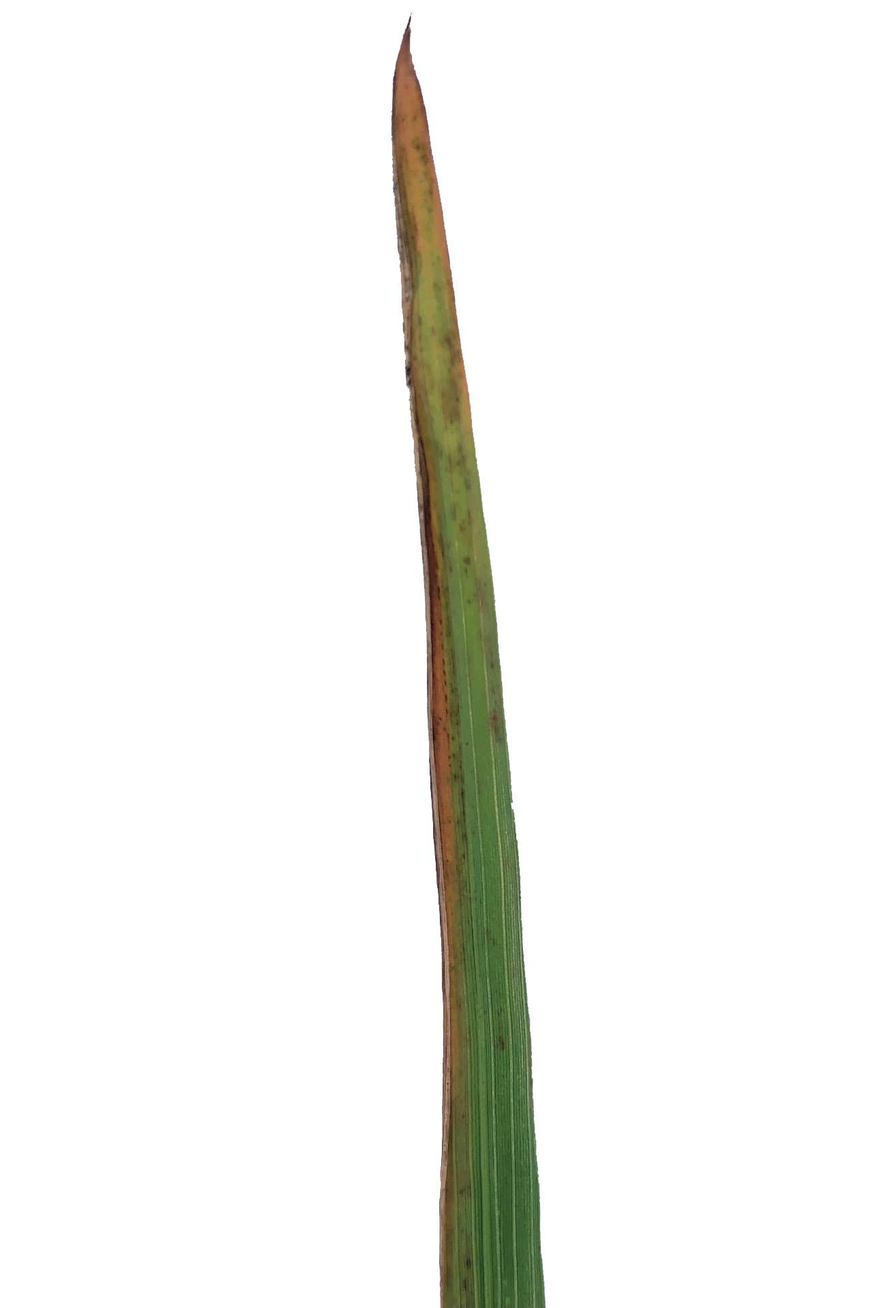Tungro: (388, 27, 545, 1308)
